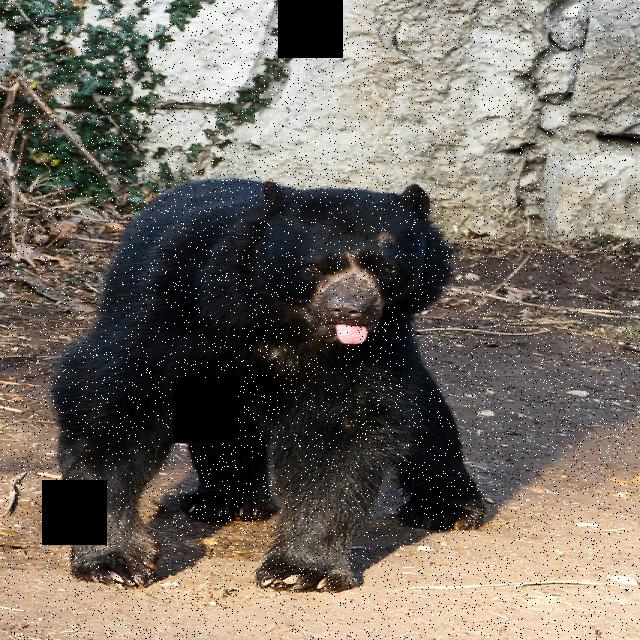Bear: (56, 176, 494, 590)
